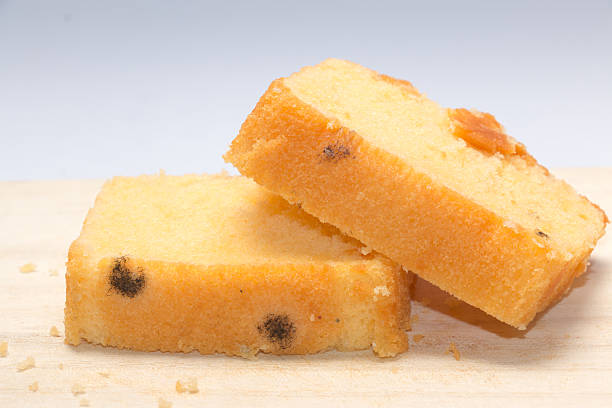mold_bread: (100, 256, 153, 297), (258, 308, 304, 350), (318, 138, 358, 168)
